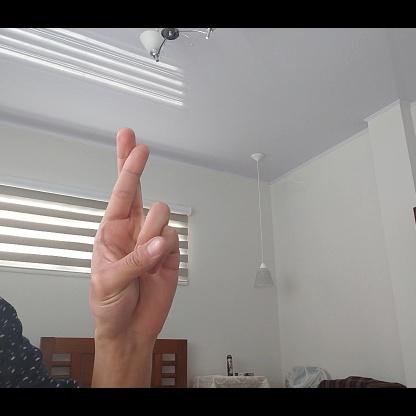R: (88, 129, 182, 347)
